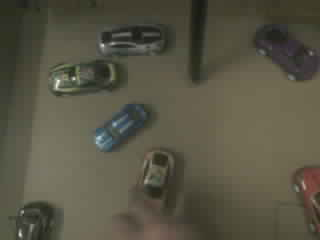Car: (254, 24, 319, 80), (94, 103, 147, 151), (48, 59, 117, 95), (97, 24, 167, 56), (138, 149, 174, 207), (293, 166, 319, 233), (16, 201, 53, 239)
